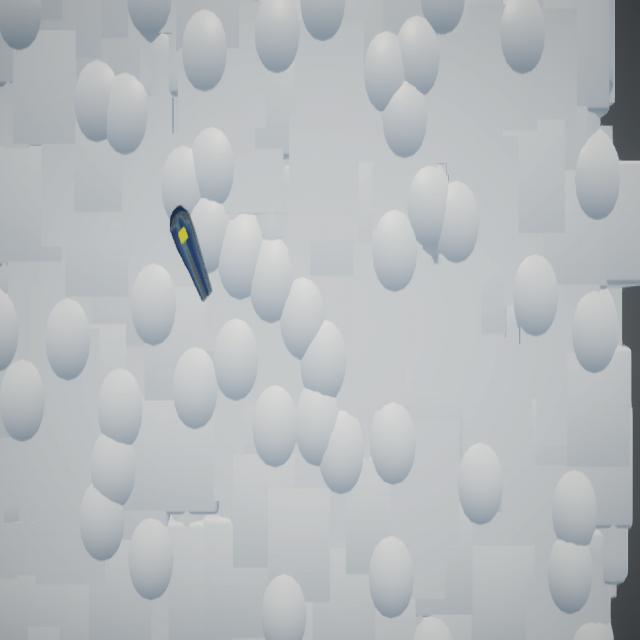handle_knife: (170, 206, 213, 303)
